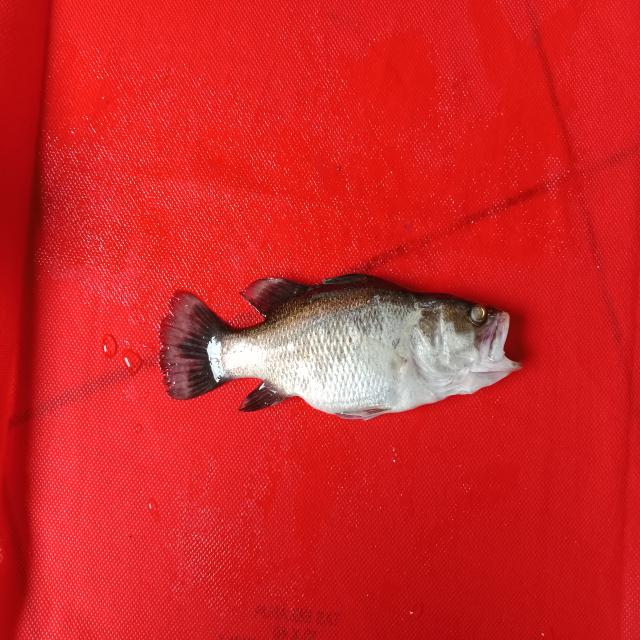ikan: (144, 240, 532, 442)
